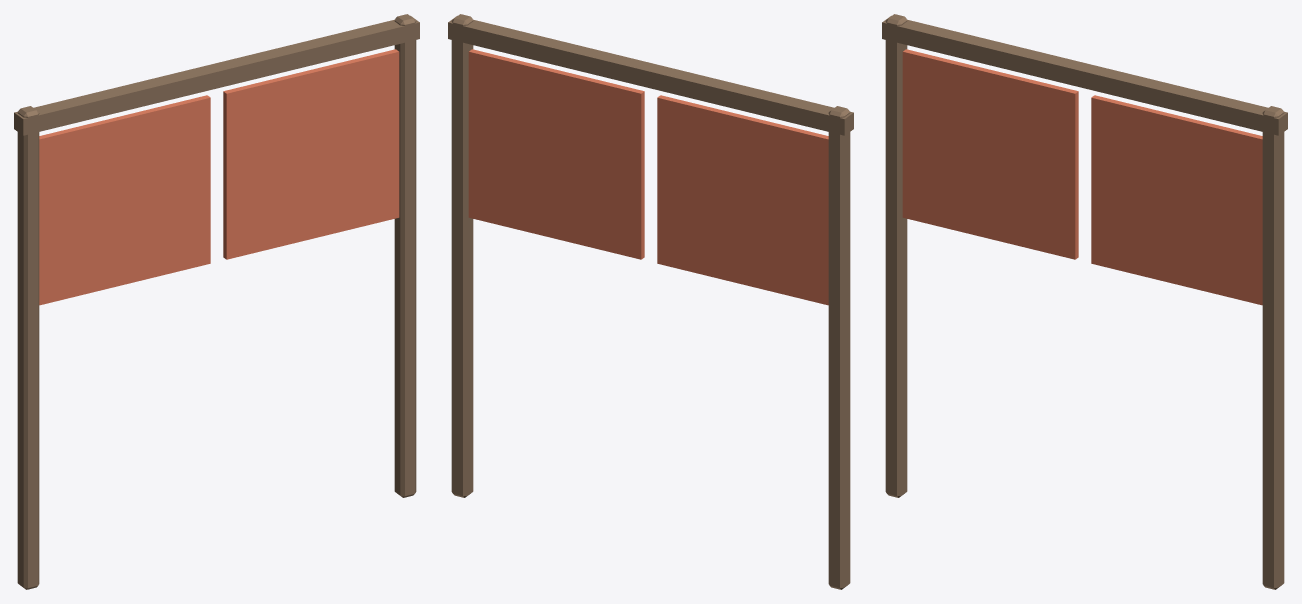
The model's file is feudal-japan-castle-town-noren-curtain-frame-ef7c5d69__26340.glb.
3 views of the same model, side by side, from view 1: azimuth 30°, elevation 25°; view 2: azimuth 150°, elevation 25°; view 3: azimuth 330°, elevation 25° (orthographic).
Visible parts, largest first — view 1: noren-curtain-frame; view 2: noren-curtain-frame; view 3: noren-curtain-frame.
Boxes of the visible parts, bbox=[...] form: noren-curtain-frame: bbox=[14, 14, 419, 589]; noren-curtain-frame: bbox=[448, 14, 853, 589]; noren-curtain-frame: bbox=[882, 14, 1287, 589].
Size of the model in its own units: 2 by 2.3 by 0.08.
